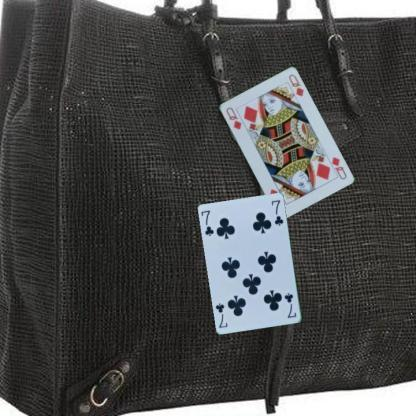7c: (199, 208, 215, 237), (282, 291, 298, 319)
Qd: (324, 154, 348, 181), (223, 104, 243, 130)
